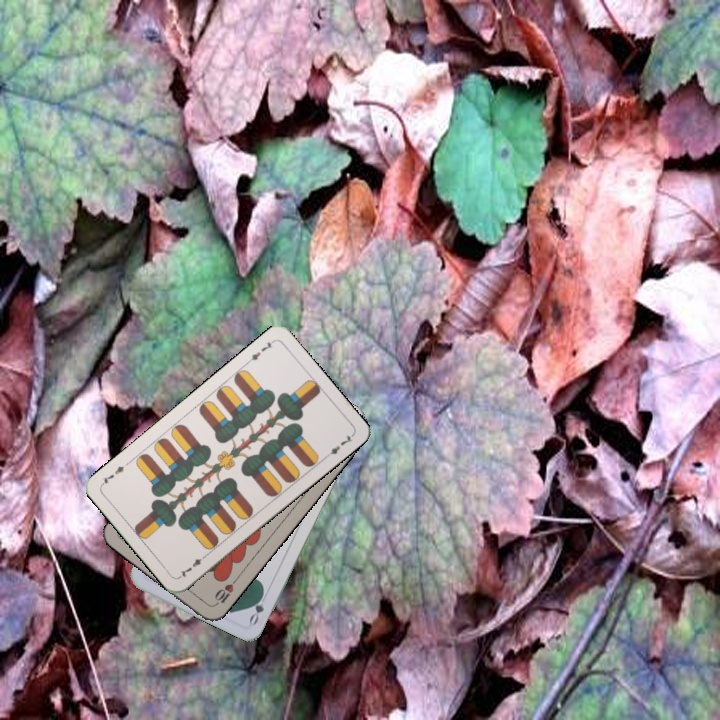E7: (175, 550, 210, 580), (243, 336, 277, 366)
GO: (245, 587, 270, 627)
H10: (209, 575, 240, 609)
